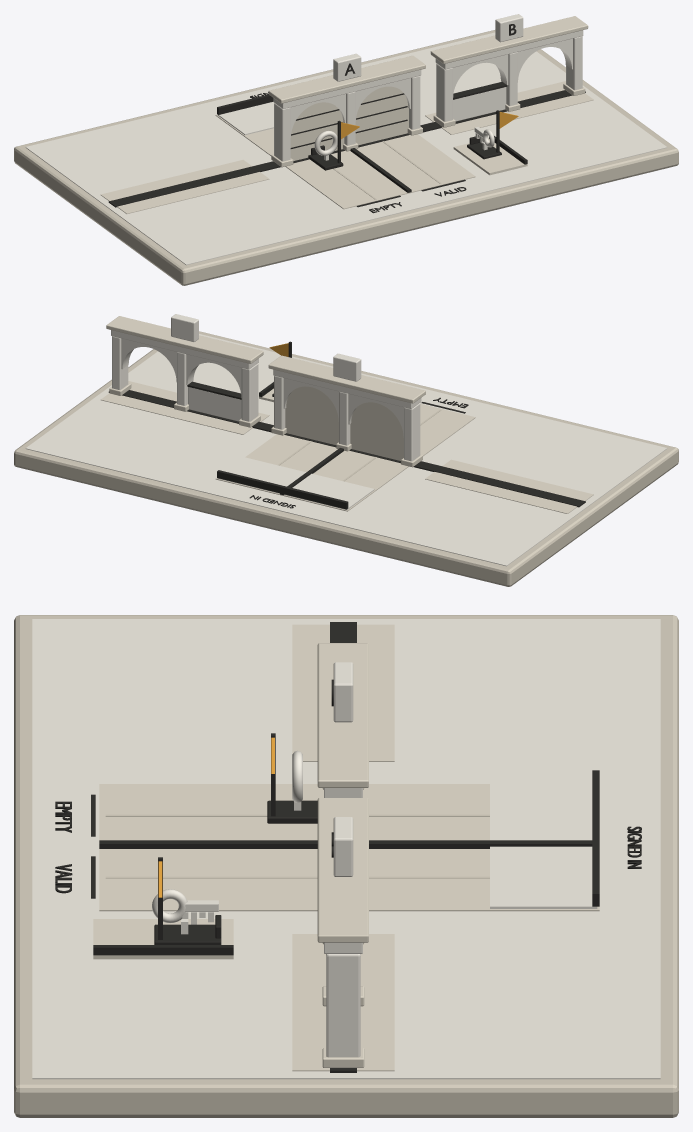
The picture shows the model from 3 angles, top to bottom: view 1: azimuth 30°, elevation 25°; view 2: azimuth 150°, elevation 25°; view 3: azimuth 270°, elevation 25°; orthographic projection. The views are drawn at different scales.
Visible parts, largest first — view 1: Plinth_Top, Plinth, Field, ParkPad_L, A_InfillValid, B_Cornice, A_Cornice, Track, A_InfillEmpty, ParkPad_R, B_BarrierEmpty, Landing (+16 smaller); view 2: Plinth_Top, Plinth, Field, ParkPad_L, Landing, A_InfillValid, A_InfillEmpty, Track, A_Cornice, B_Cornice, ParkPad_R, B_BarrierEmpty (+15 smaller); view 3: Plinth_Top, Plinth, Field, Landing, ParkPad_R, ParkPad_L, A_Cornice, B_Cornice, Field_Kerb, B_Pier2, Rack, Rack_Rim (+7 smaller).
Part boxes in pixels (<box>): Plinth_Top: <box>25,32,667,265</box>; Plinth: <box>14,30,678,285</box>; Field: <box>215,115,475,209</box>; ParkPad_L: <box>100,159,269,213</box>; A_InfillValid: <box>355,86,408,145</box>; B_Cornice: <box>430,16,588,63</box>; A_Cornice: <box>268,55,425,103</box>; Track: <box>108,90,585,207</box>; A_InfillEmpty: <box>290,102,344,160</box>; ParkPad_R: <box>425,81,593,134</box>; B_BarrierEmpty: <box>453,87,506,121</box>; Landing: <box>217,102,274,135</box>; Plinth_Top: <box>25,334,667,566</box>; Plinth: <box>14,331,678,586</box>; Field: <box>215,404,475,511</box>; ParkPad_L: <box>425,459,593,513</box>; Landing: <box>217,457,374,509</box>; A_InfillValid: <box>285,386,338,444</box>; A_InfillEmpty: <box>350,402,403,460</box>; Track: <box>108,390,585,507</box>; A_Cornice: <box>268,355,425,403</box>; B_Cornice: <box>106,316,263,363</box>; ParkPad_R: <box>101,381,269,434</box>; B_BarrierEmpty: <box>188,387,241,421</box>; Plinth_Top: <box>32,619,660,1079</box>; Plinth: <box>14,615,678,1117</box>; Field: <box>99,784,599,911</box>; Landing: <box>490,783,597,908</box>; ParkPad_R: <box>292,934,394,1071</box>; ParkPad_L: <box>292,624,394,761</box>; A_Cornice: <box>317,643,368,787</box>; B_Cornice: <box>317,798,368,942</box>; Field_Kerb: <box>99,840,592,848</box>; B_Pier2: <box>326,954,360,1057</box>; Rack: <box>93,919,233,959</box>; Rack_Rim: <box>93,945,233,955</box>.
Size of the model in its own units: 9.2 by 1.9 by 5.45.
